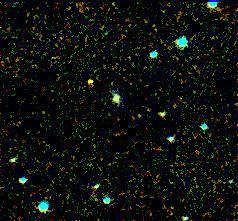star: (75, 66, 105, 96)
